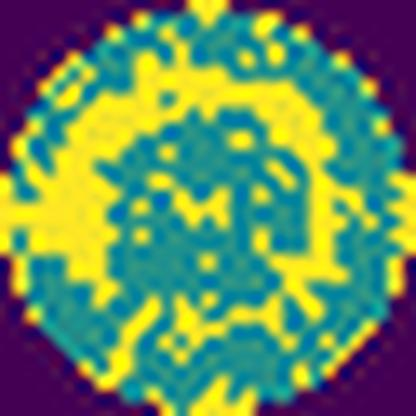Donut: (12, 44, 355, 354)
